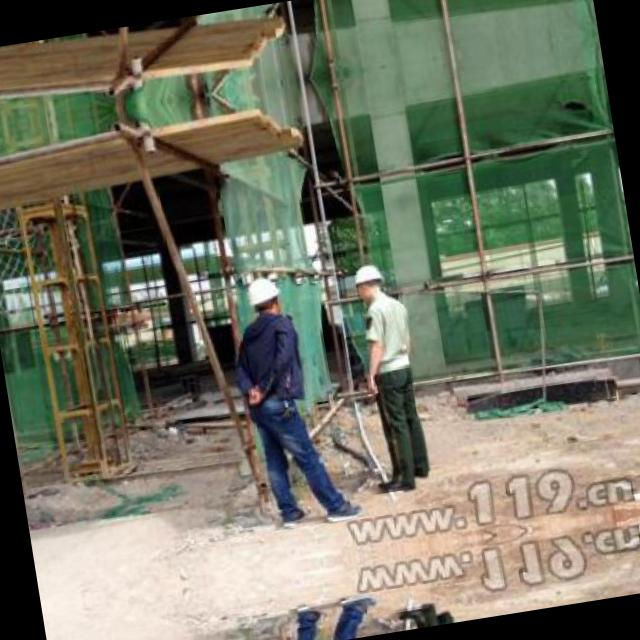helmet: (244, 274, 284, 326), (348, 260, 384, 306)
